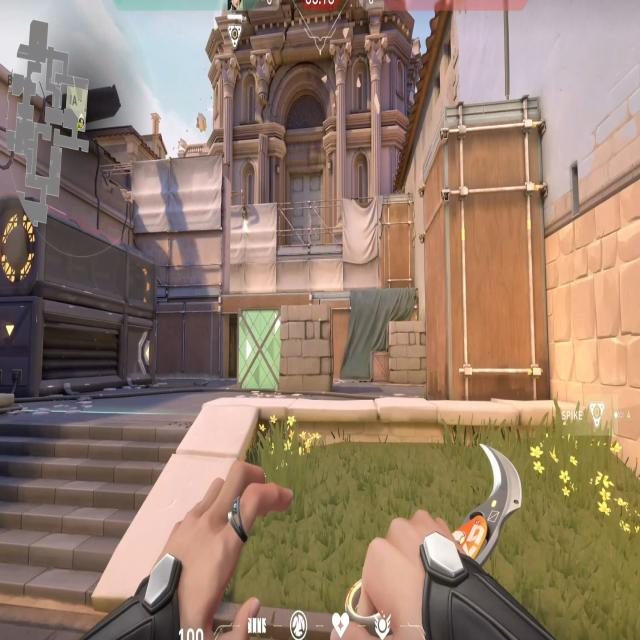A_Heaven_Box: (375, 182, 421, 296)
A_Heaven_Wall: (126, 144, 236, 310)
A_Site_Box: (233, 301, 341, 402)
